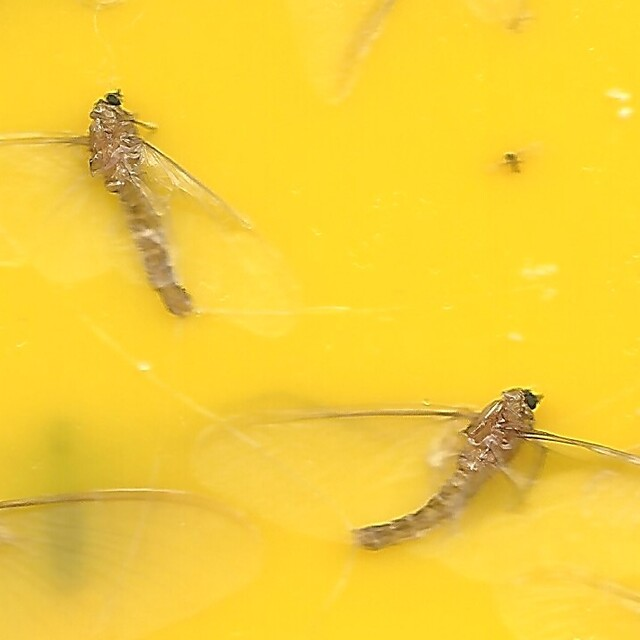Ephemeroptera: (353, 381, 550, 552), (90, 88, 197, 317)
